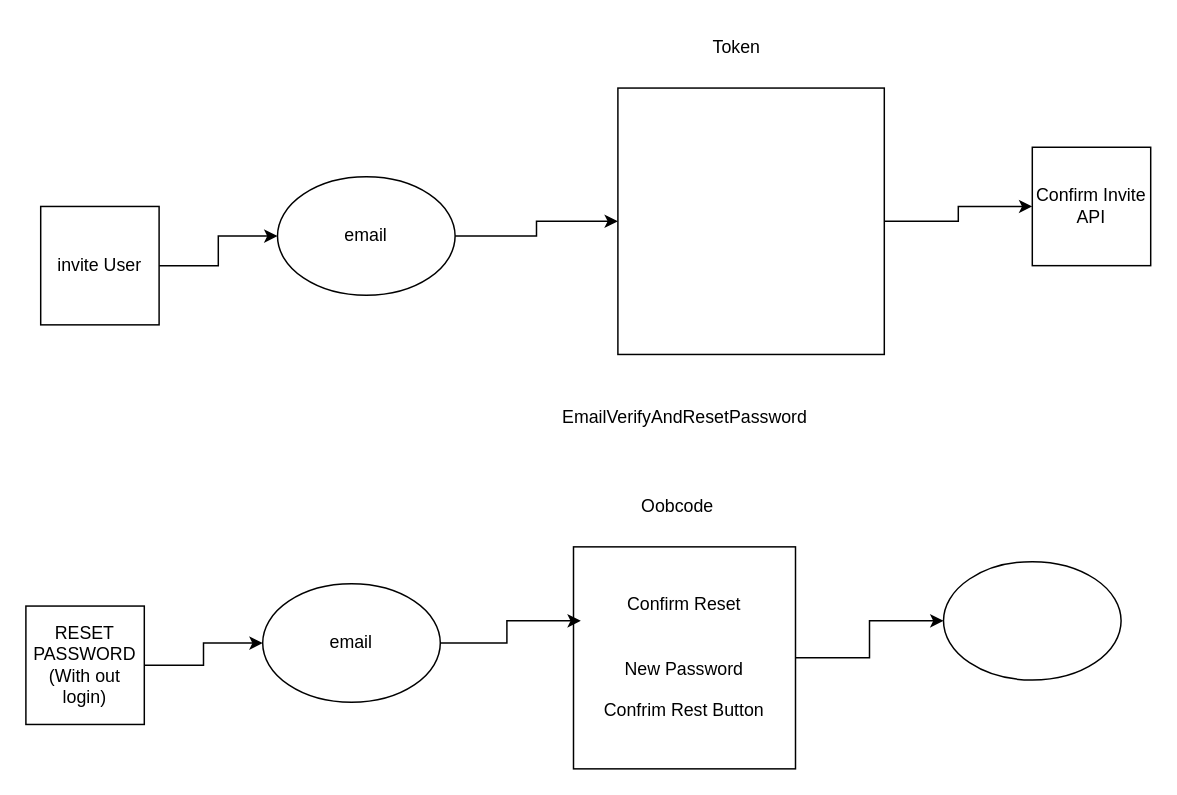
This 1177x795 diagram has some shape labels left out. Here are the shapes that lost their labels. From the top down, the centre of each, then its label:
point (750, 220): Verify Email Page Password Feild Confrim Button
point (1031, 620): Use Firebase.Auth Package to update
